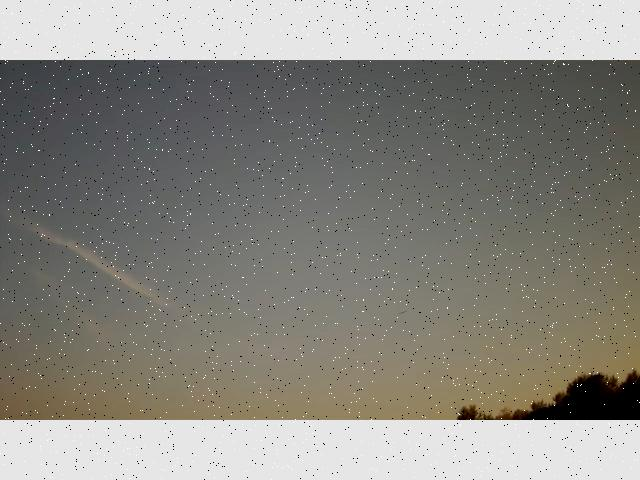Anti-Drone: (392, 304, 416, 317)
